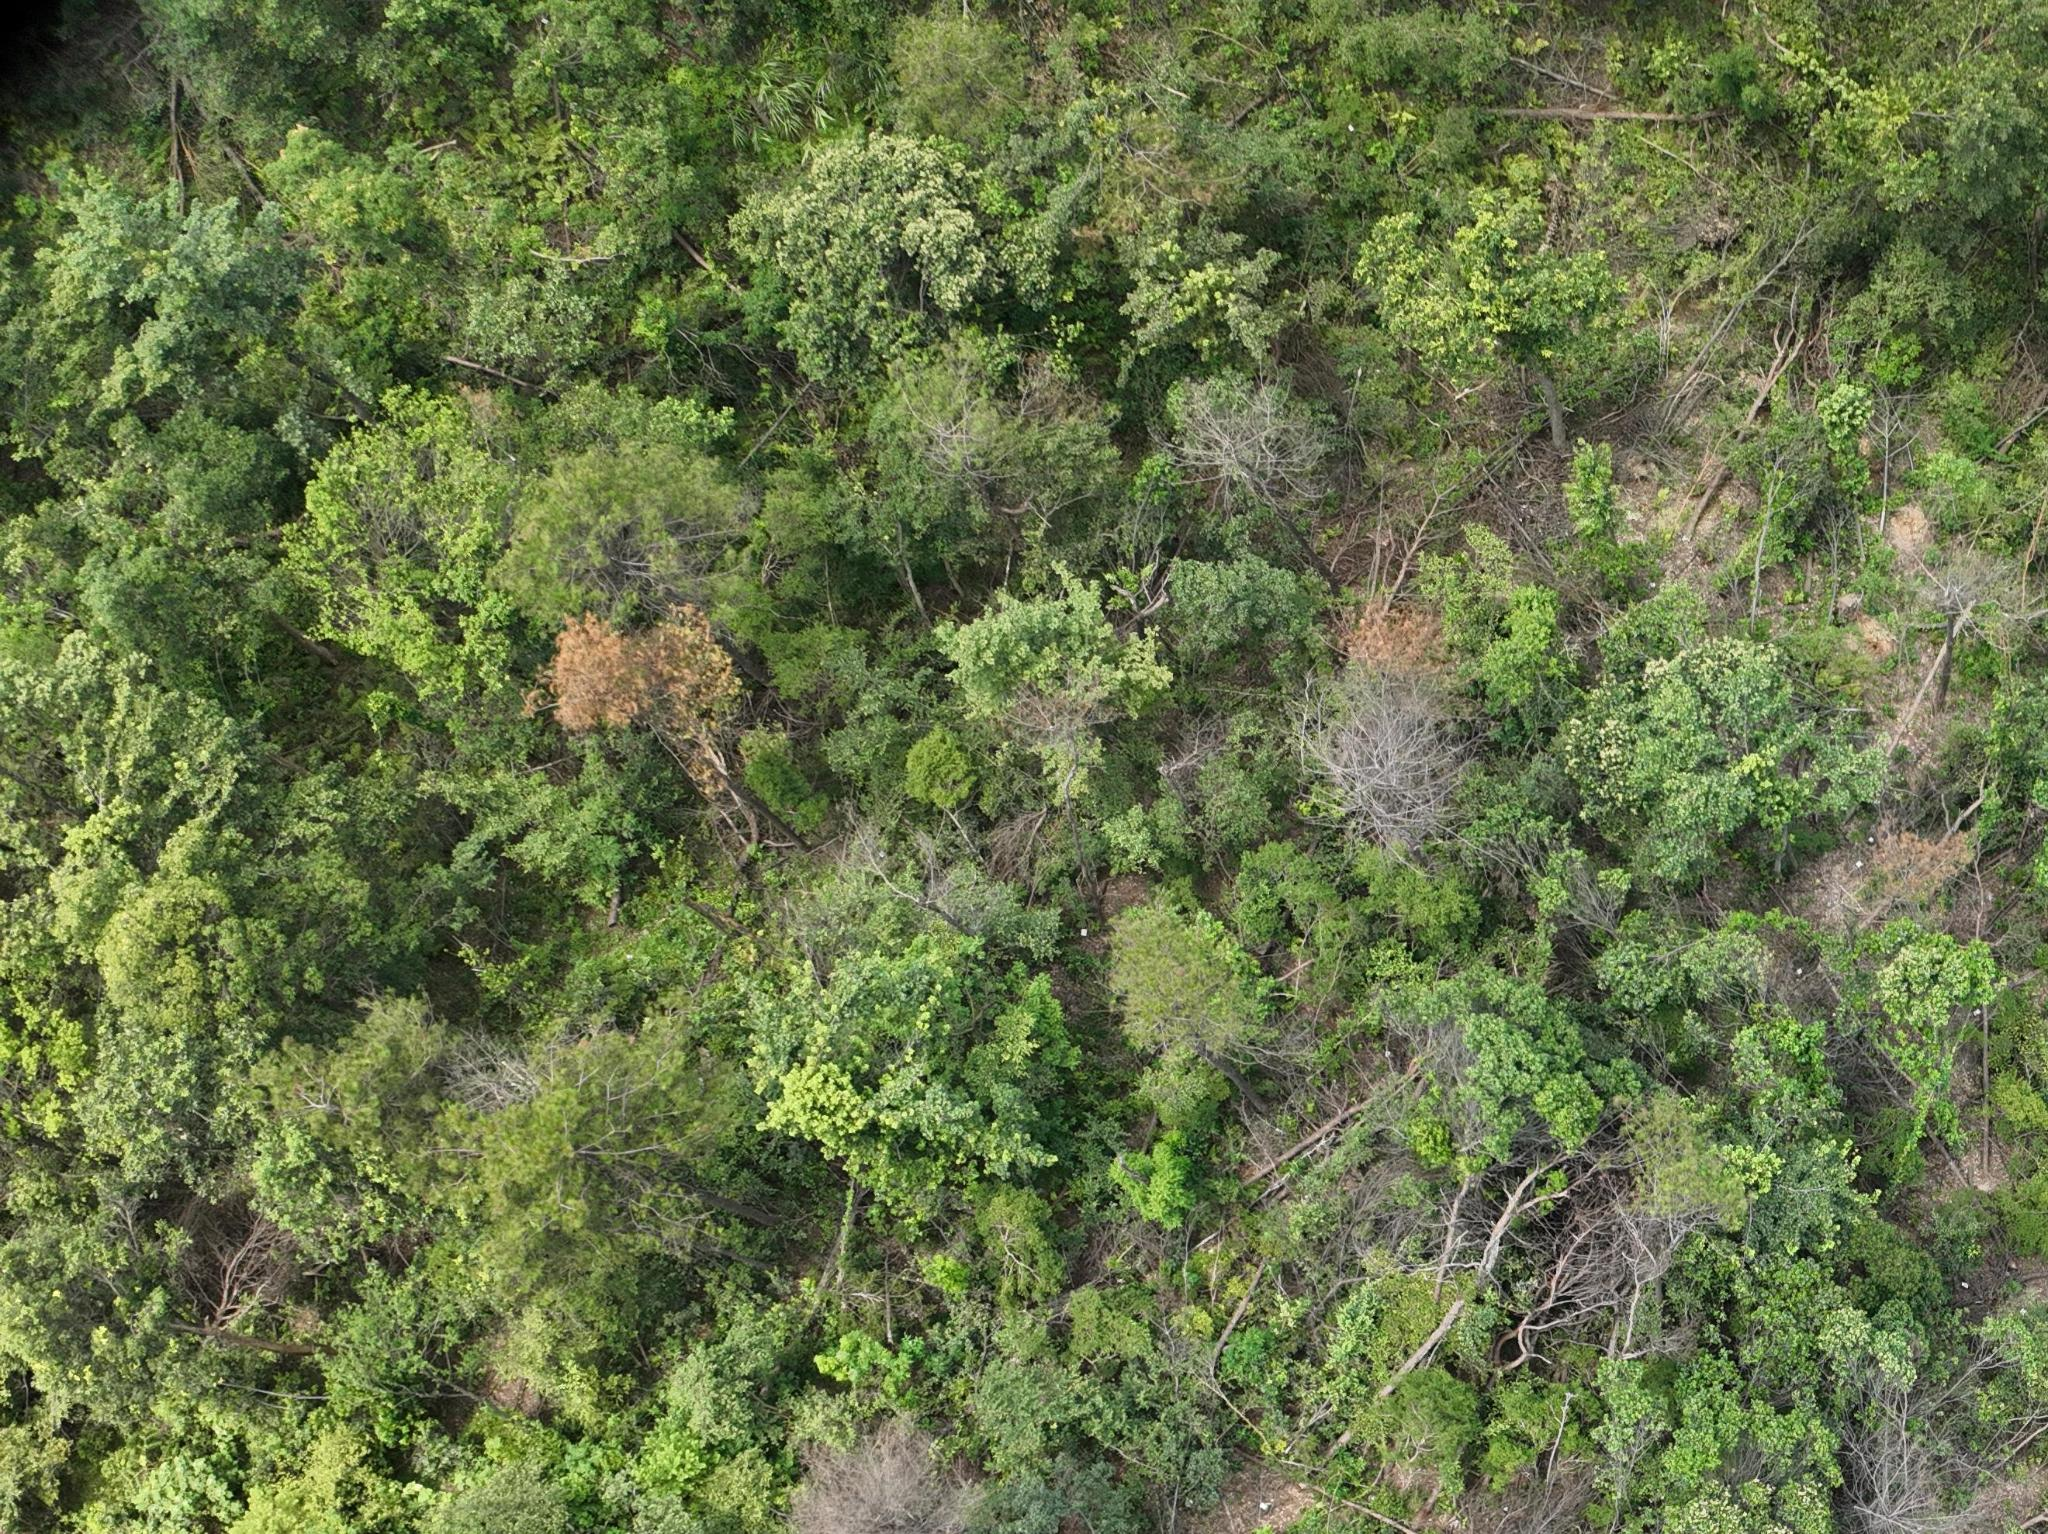dead: (1328, 678, 1468, 843), (785, 1415, 965, 1529), (1842, 1413, 2014, 1521), (1175, 396, 1315, 506)
heavy: (529, 609, 735, 757)
